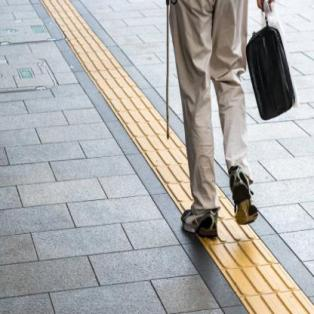Podoctatil: (43, 2, 160, 140), (207, 238, 314, 314)
